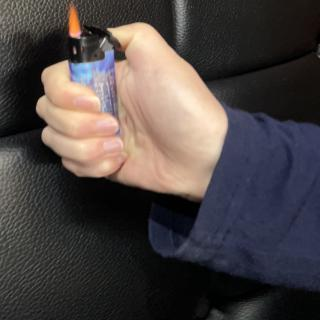fire: (65, 2, 83, 40)
